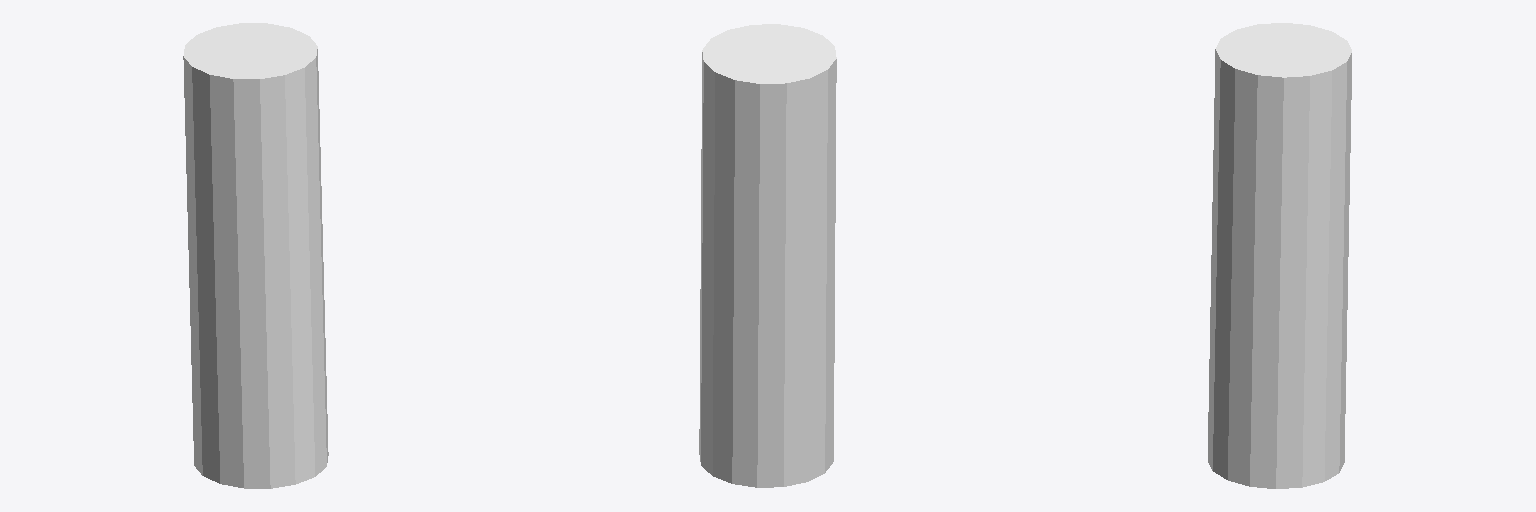
File: bougie.obj
3 renders of one model, left to right at view 1: azimuth 30°, elevation 25°; view 2: azimuth 150°, elevation 25°; view 3: azimuth 270°, elevation 25°, orthographic.
Parts seen in each view (by area): view 1: WSVCylinder_3; view 2: WSVCylinder_3; view 3: WSVCylinder_3.
Boxes of the visible parts, x1=… form: WSVCylinder_3: x1=183, y1=23, x2=328, y2=488; WSVCylinder_3: x1=699, y1=24, x2=836, y2=487; WSVCylinder_3: x1=1208, y1=23, x2=1351, y2=488.
Bounding box in the file's own units: 0.322 × 1.02 × 0.3259.